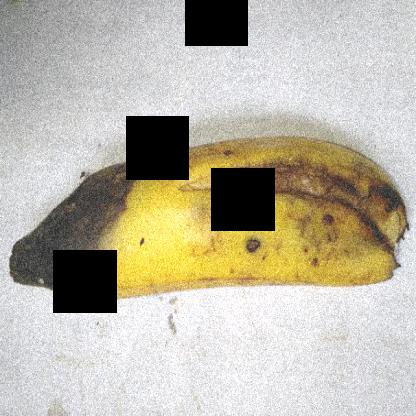rotten: (204, 138, 408, 273), (0, 132, 142, 315)
